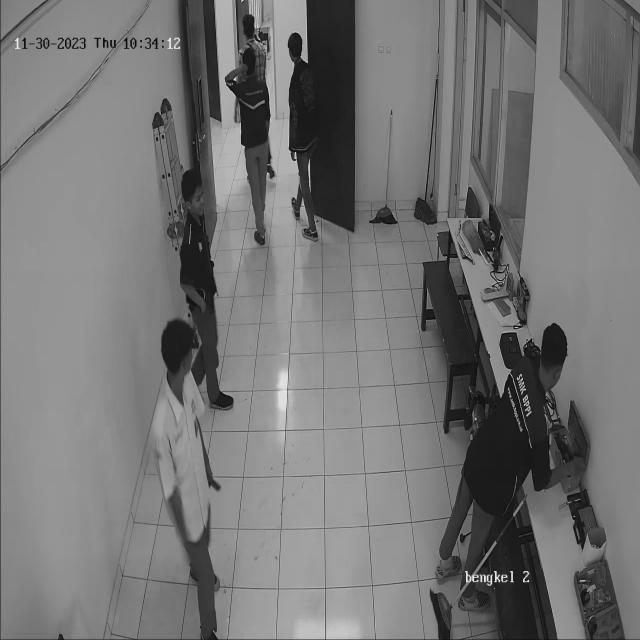person: (148, 308, 226, 640), (175, 153, 235, 417), (276, 9, 330, 252), (232, 6, 276, 246)
